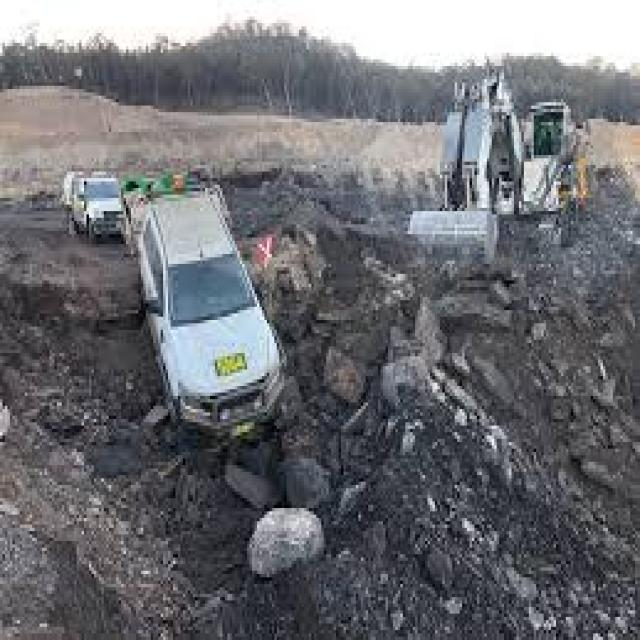light_vehicle: (124, 178, 289, 446), (54, 148, 131, 264)
